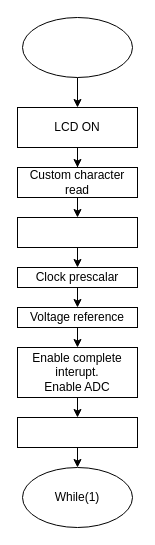
This 155x545 diagram has some shape labels left out. The shapes that lost their labels are listed below. From the top down, each one's box as (x1, y1, x2, y2) in pixels, then its label:
(22, 16, 132, 78): int main(void)
(16, 216, 138, 248): Declaration GPIO inputs
(16, 416, 138, 448): Timers overflow Timers interrupts
